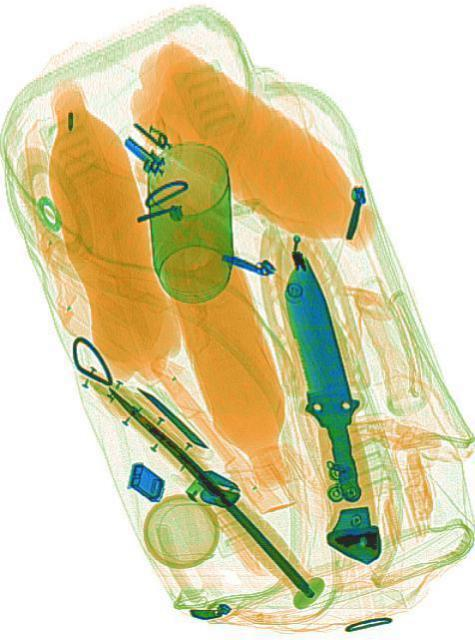Knife: (101, 377, 318, 601), (270, 250, 378, 508)
